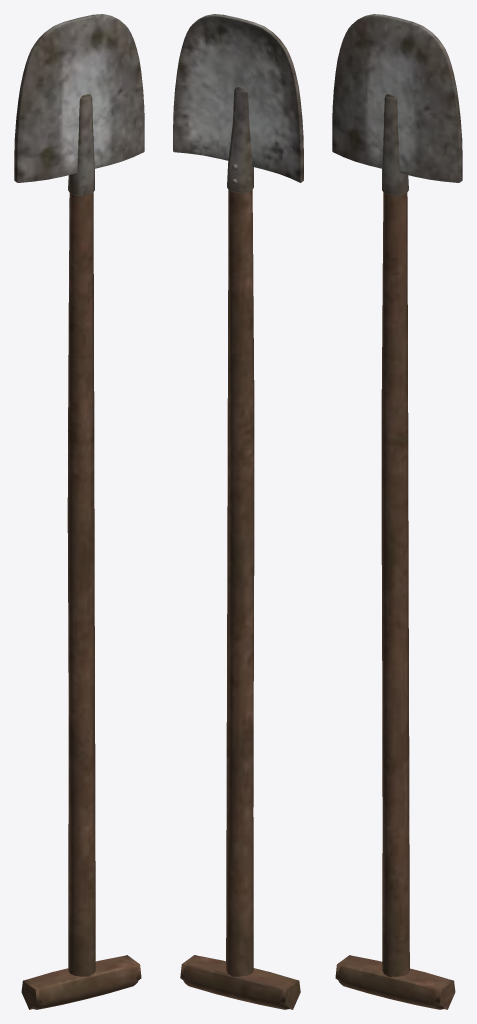
File: Shovel.glb
3 renders of one model, left to right at view 1: azimuth 30°, elevation 25°; view 2: azimuth 150°, elevation 25°; view 3: azimuth 330°, elevation 25°, orthographic.
Parts seen in each view (by area): view 1: Shovel; view 2: Shovel; view 3: Shovel.
Boxes of the visible parts, x1,y1,x2,y2 form: Shovel: [14, 14, 144, 1009]; Shovel: [173, 14, 303, 1009]; Shovel: [332, 14, 462, 1009].
Size of the model in its own units: 0.2668 by 1.95 by 0.0597.
Materials: 1 (1 with a texture image).
